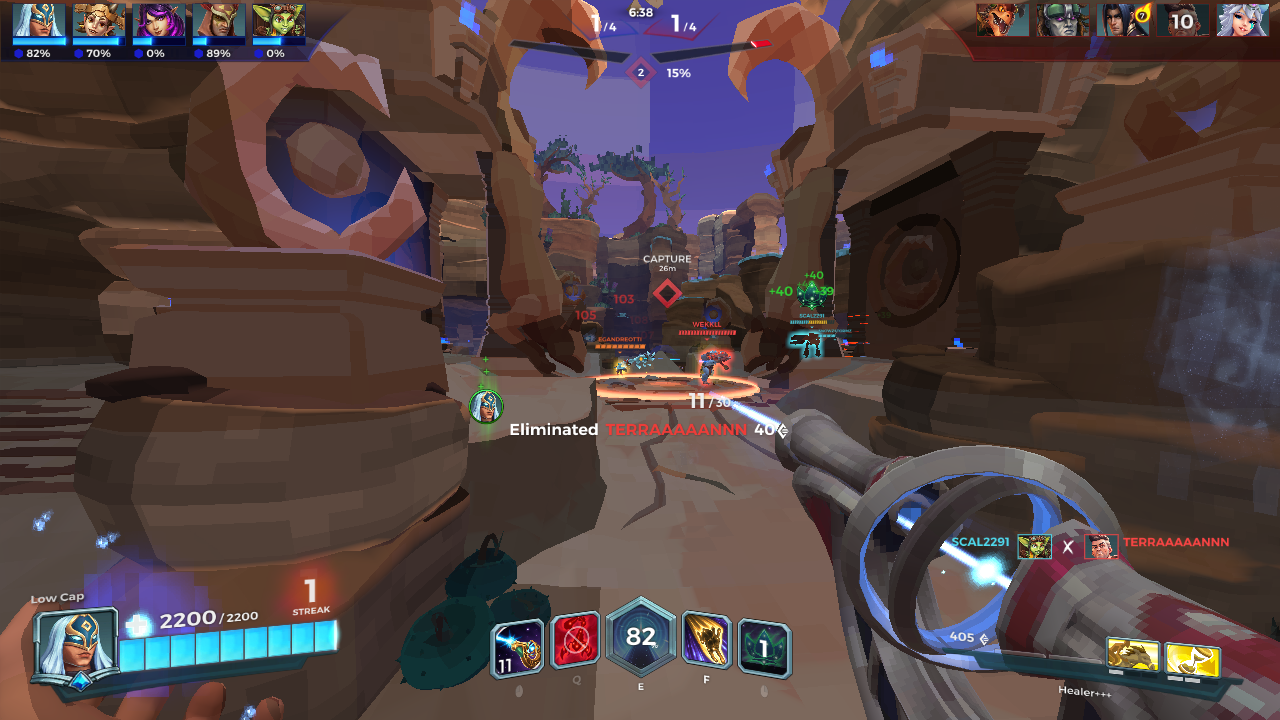model: (697, 346, 733, 394), (611, 360, 626, 376)
